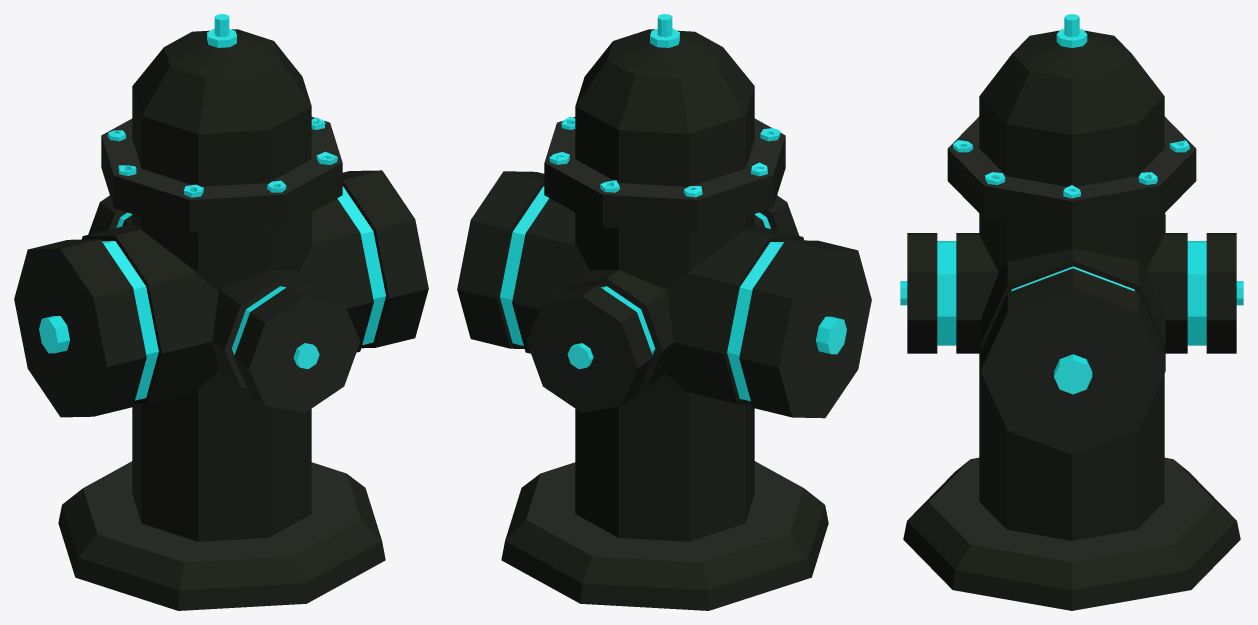
File: Fire_Hydrant_Blue.glb
3 views of the same model, side by side, from view 1: azimuth 30°, elevation 25°; view 2: azimuth 150°, elevation 25°; view 3: azimuth 270°, elevation 25° (orthographic).
Visible parts, largest first — view 1: FireHydrant; view 2: FireHydrant; view 3: FireHydrant.
Boxes of the visible parts, x1,y1,x2,y2 form: FireHydrant: [14, 14, 428, 610]; FireHydrant: [457, 14, 871, 610]; FireHydrant: [900, 14, 1243, 610].
Size of what is drawn, in the model's own units: 0.4753 by 0.6889 by 0.4107.
1 material, 1 textured.
